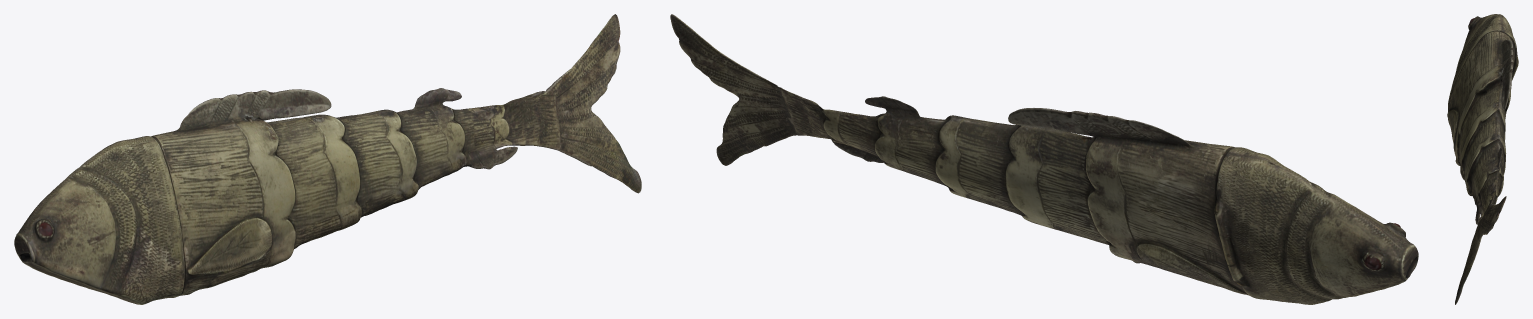
The model's file is fish-shaped_besamin_box.glb.
3 renders of one model, left to right at view 1: azimuth 30°, elevation 25°; view 2: azimuth 150°, elevation 25°; view 3: azimuth 270°, elevation 25°, orthographic. The views are drawn at different scales.
Parts seen in each view (by area): view 1: Object_3, Object_4; view 2: Object_3, Object_4; view 3: Object_3, Object_4.
Boxes of the visible parts, box(x1,y1,x2,y2) form: Object_3: box(14, 14, 641, 304); Object_4: box(18, 78, 618, 298); Object_3: box(670, 14, 1418, 304); Object_4: box(722, 92, 1416, 301); Object_3: box(1447, 14, 1518, 304); Object_4: box(1448, 14, 1517, 282).
Size of the model in its own units: 0.4325 by 0.1084 by 0.0587.
Materials: 1 (1 with a texture image).
